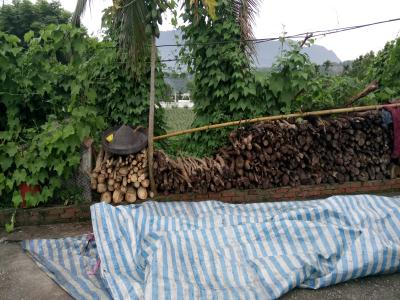plastic_bag: (88, 194, 399, 300)
